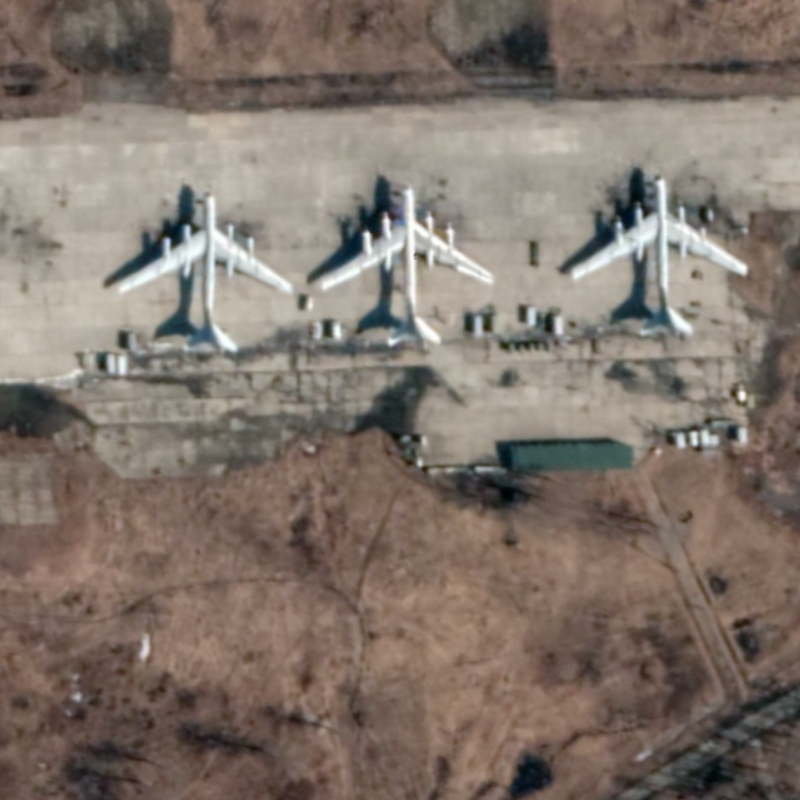A17: (567, 171, 752, 341), (114, 190, 297, 358), (316, 182, 497, 351)
